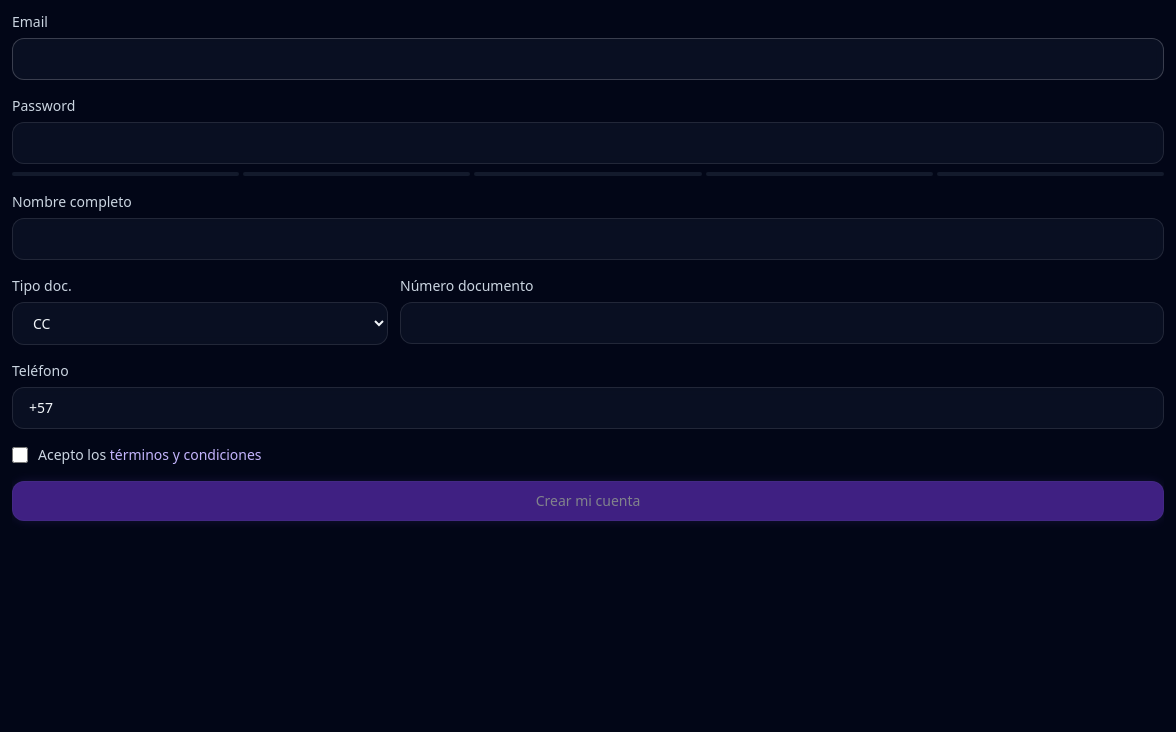
it: <RegisterForm /> › muestra el banner de error cuando el backend devuelve 409
Type "juan@example.com" into the field labelled "Email" at coordinates (588, 59), box [12,38,1164,80]
Type "SecurePass123" into the password field labelled "Password" at coordinates (588, 143), box [12,122,1164,164]
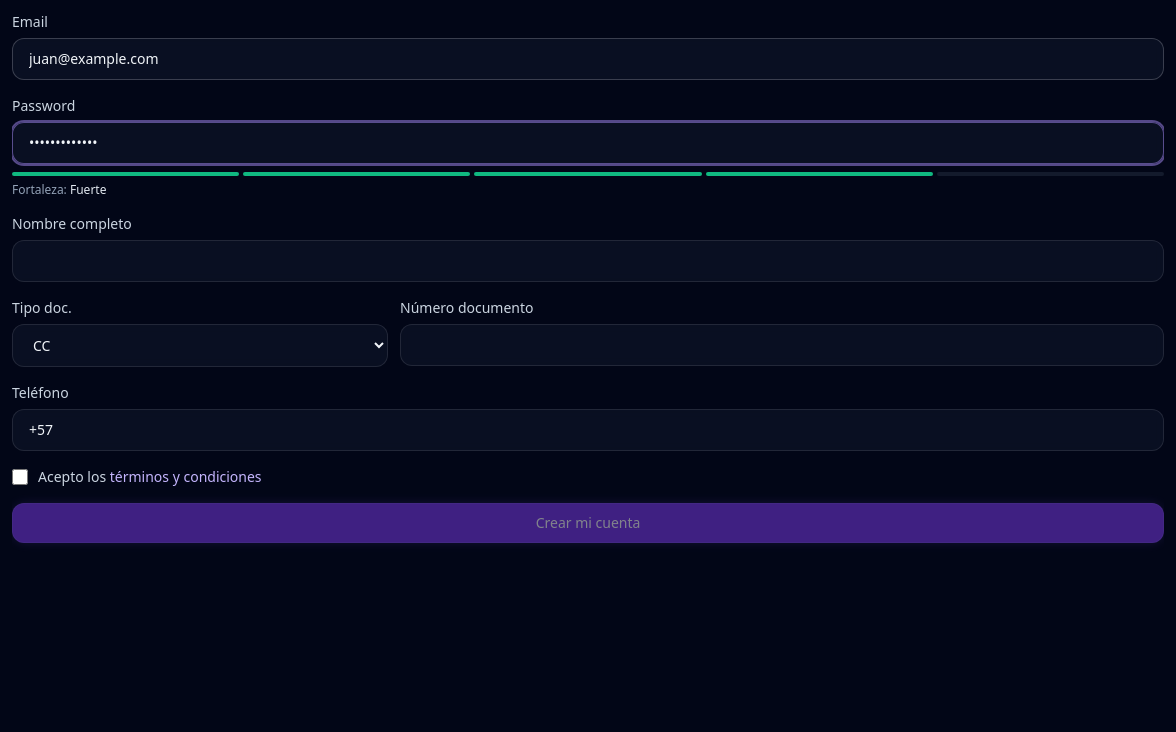
Type "Juan Pérez García" into the field labelled "Nombre completo" at coordinates (588, 261), box [12,240,1164,282]
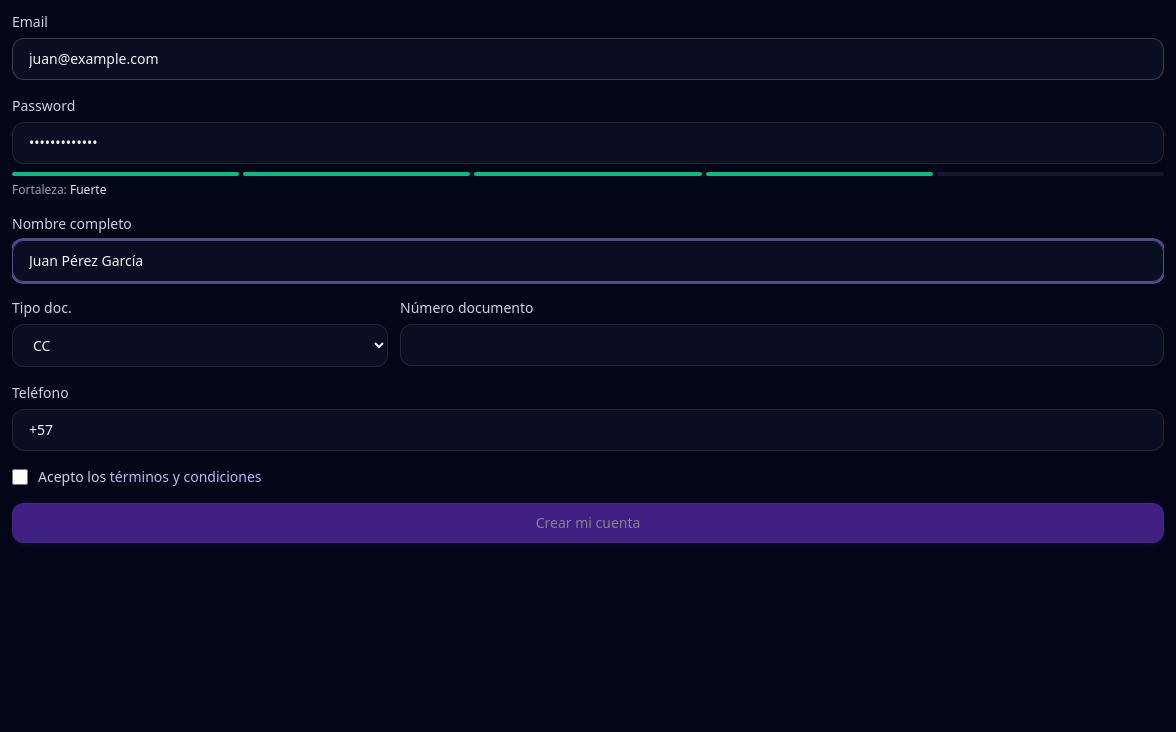
Type "1234567890" into the field labelled "Número documento" at coordinates (782, 345), box [400,324,1164,366]
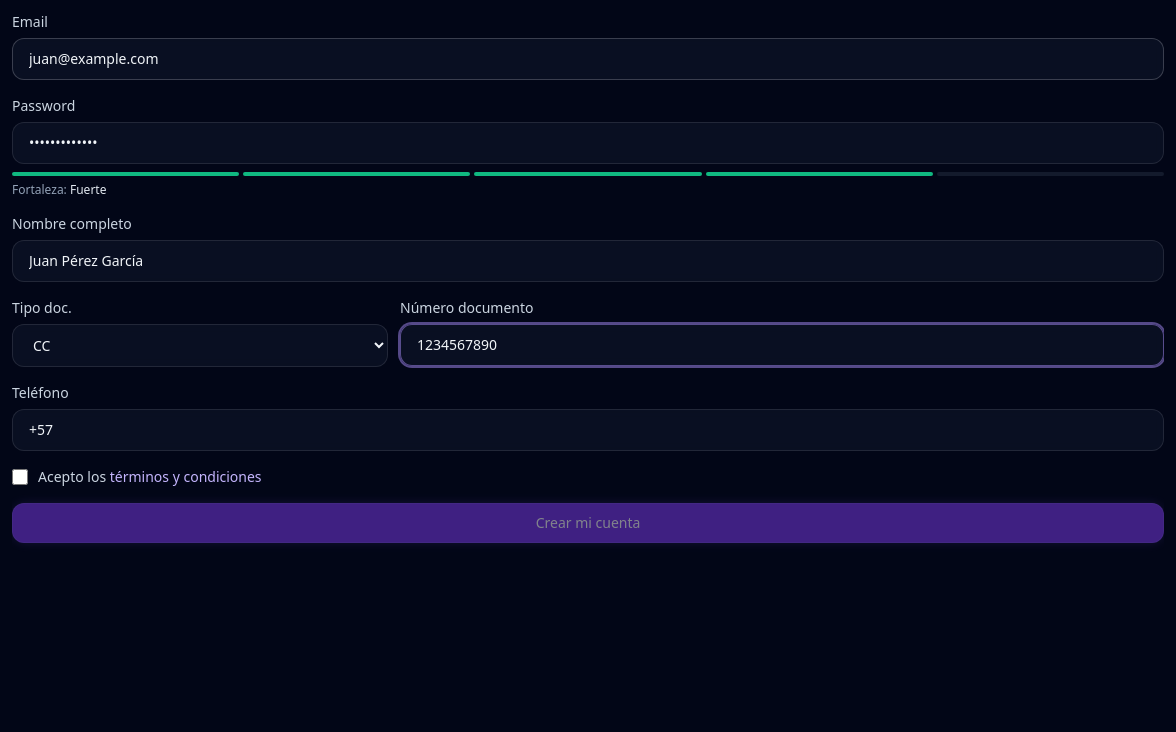
Type "3001234567" into the field labelled "Teléfono" at coordinates (588, 430), box [12,409,1164,451]
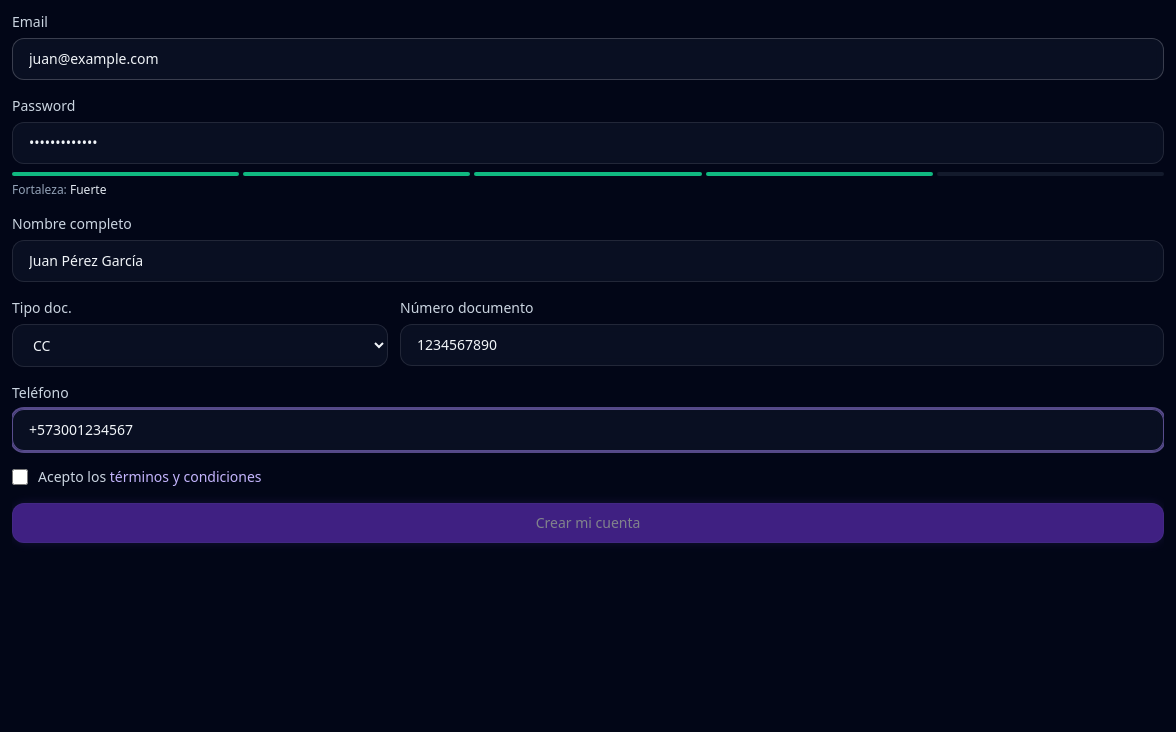
Click the checkbox at coordinates (20, 477), box [12,469,28,485]
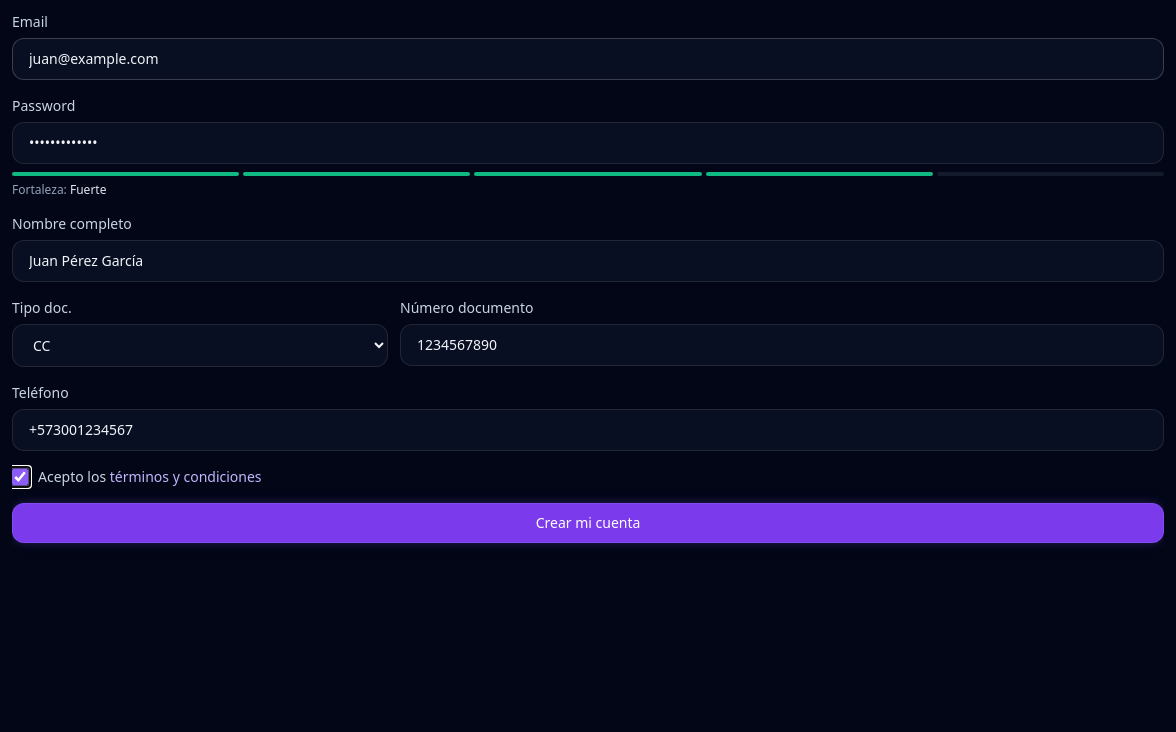
Click the button "Crear mi cuenta" at coordinates (588, 523), box [12,503,1164,543]
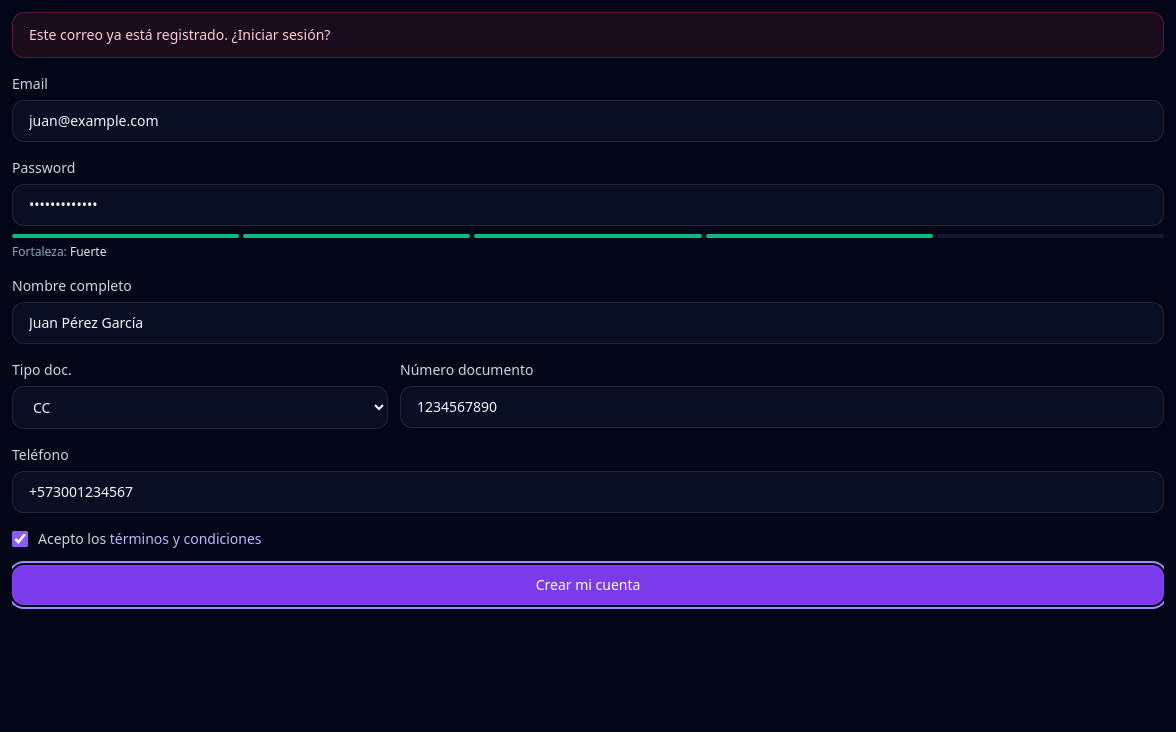
Expected: the message shows "correo ya está registrado", [29,25,330,44]
